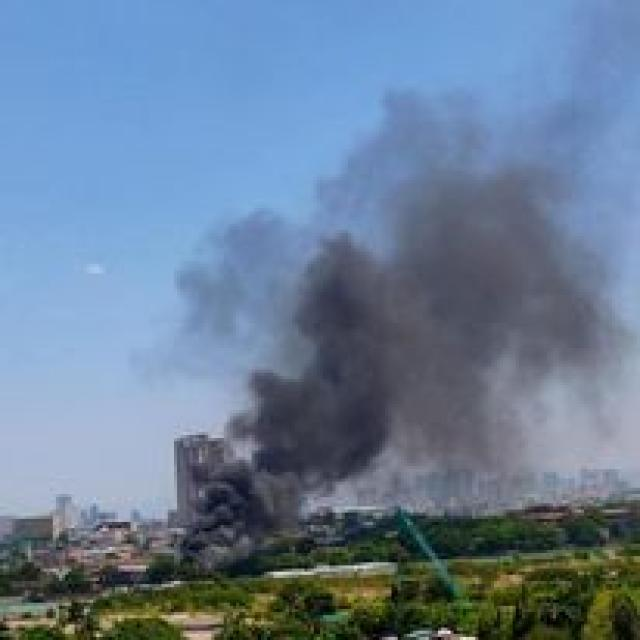Smoke: (171, 90, 640, 570)
